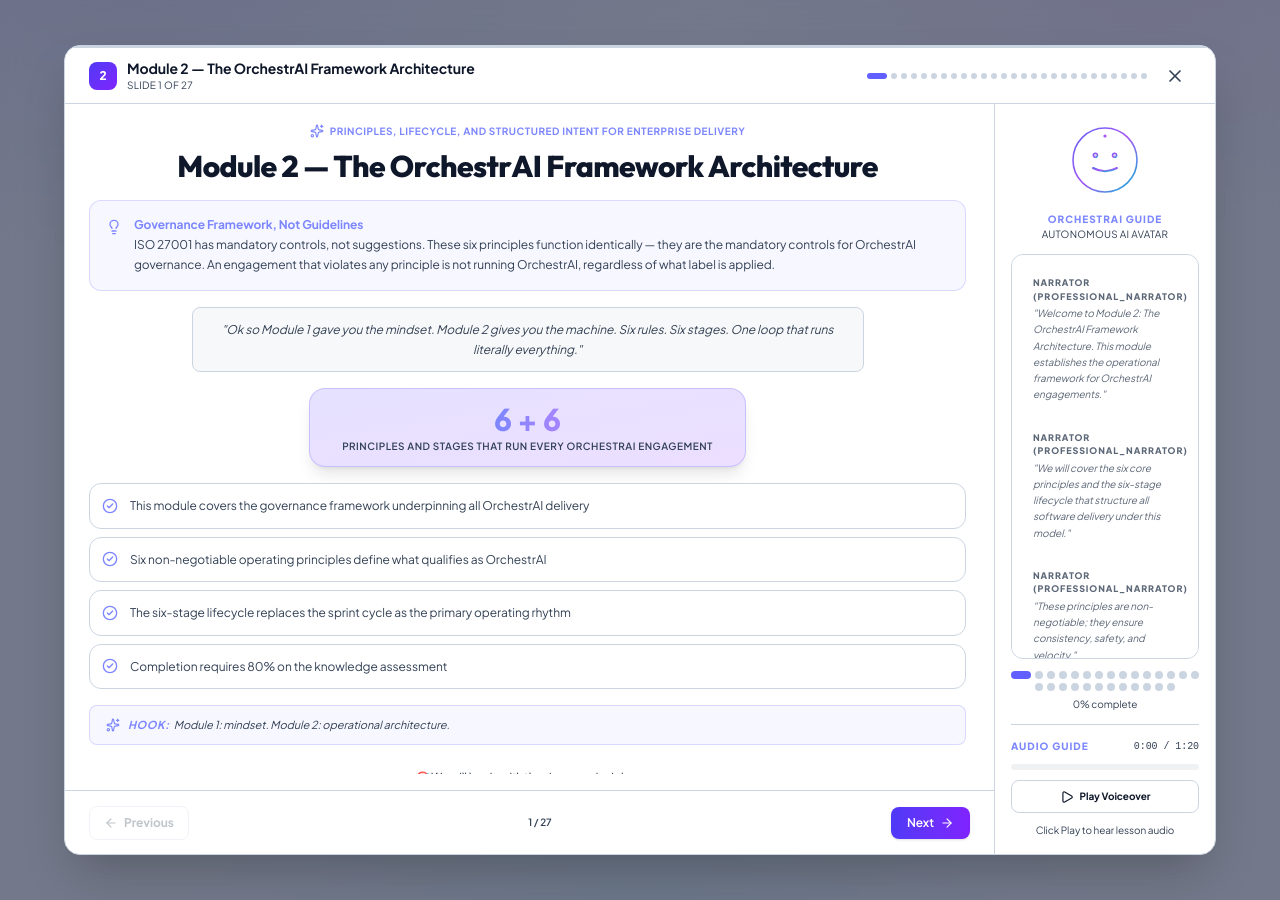
Test: TrainingPresenter · narration sync › survives navigating forward through slides
This screenshot has width=1280, height=900.
Click the button "Next".
click(930, 822)  # box [891,806,970,838]
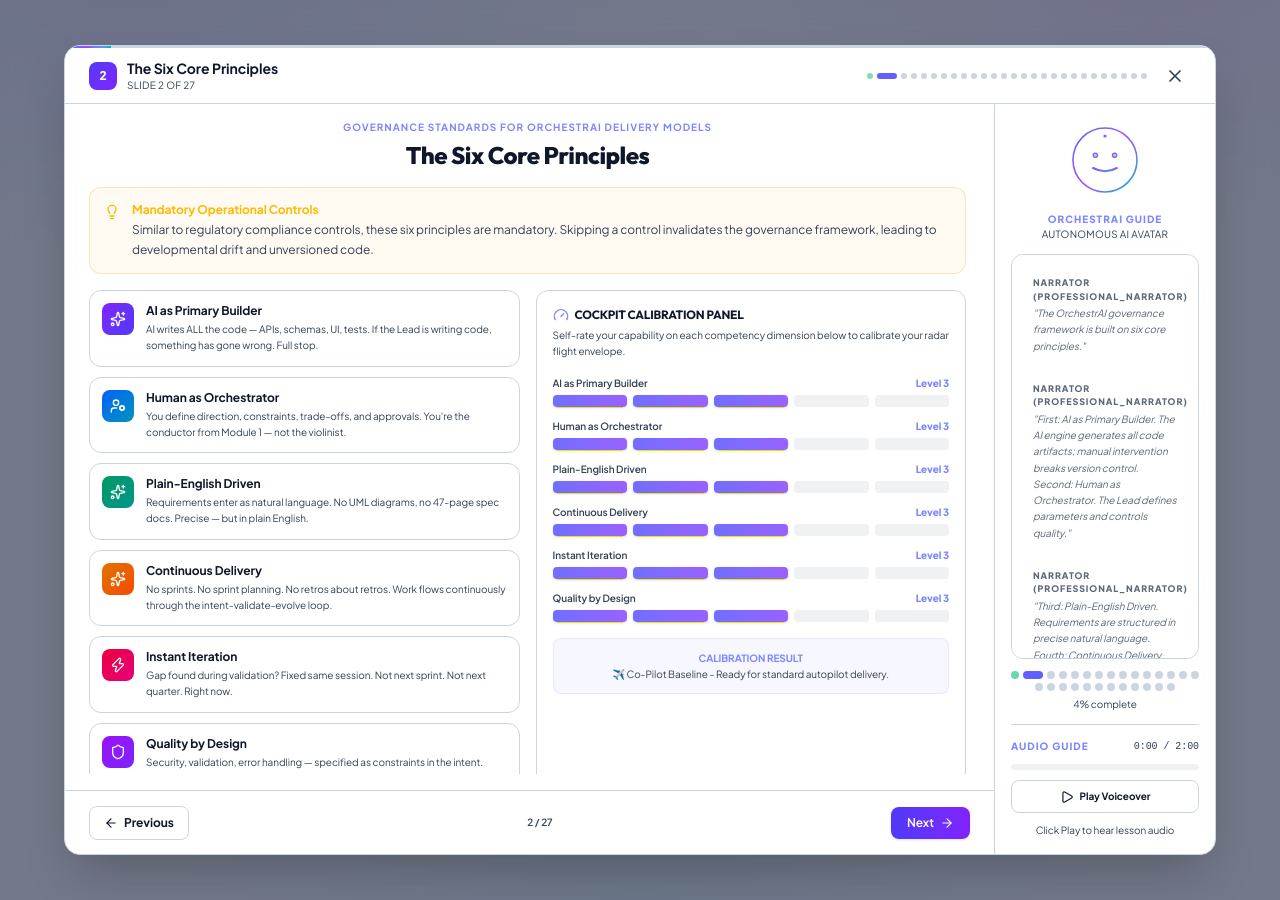
Expected: the text "Slide 2 of 27" is shown, [127,79,195,91]
